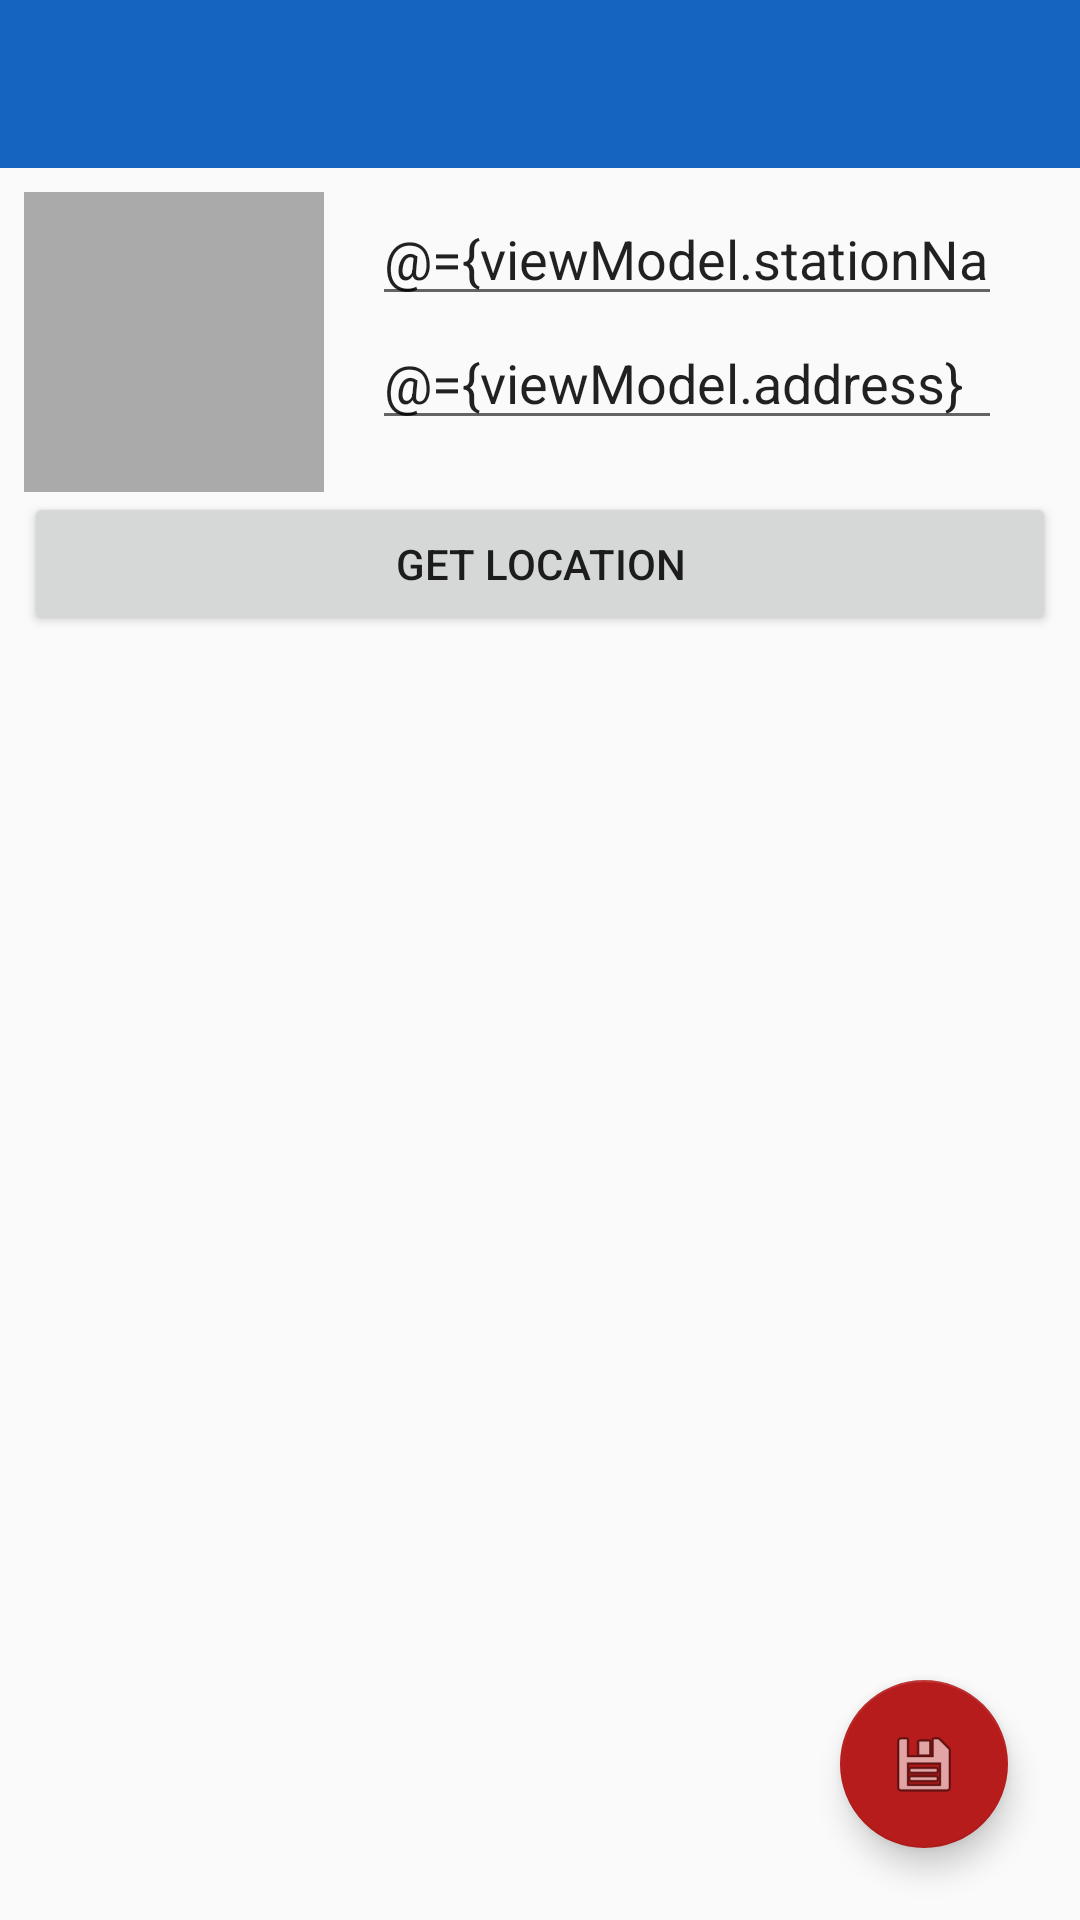

Icons on this 1080w x 1920h Android screen, each with the point to tap as [x,y]:
save: [924,1764]
